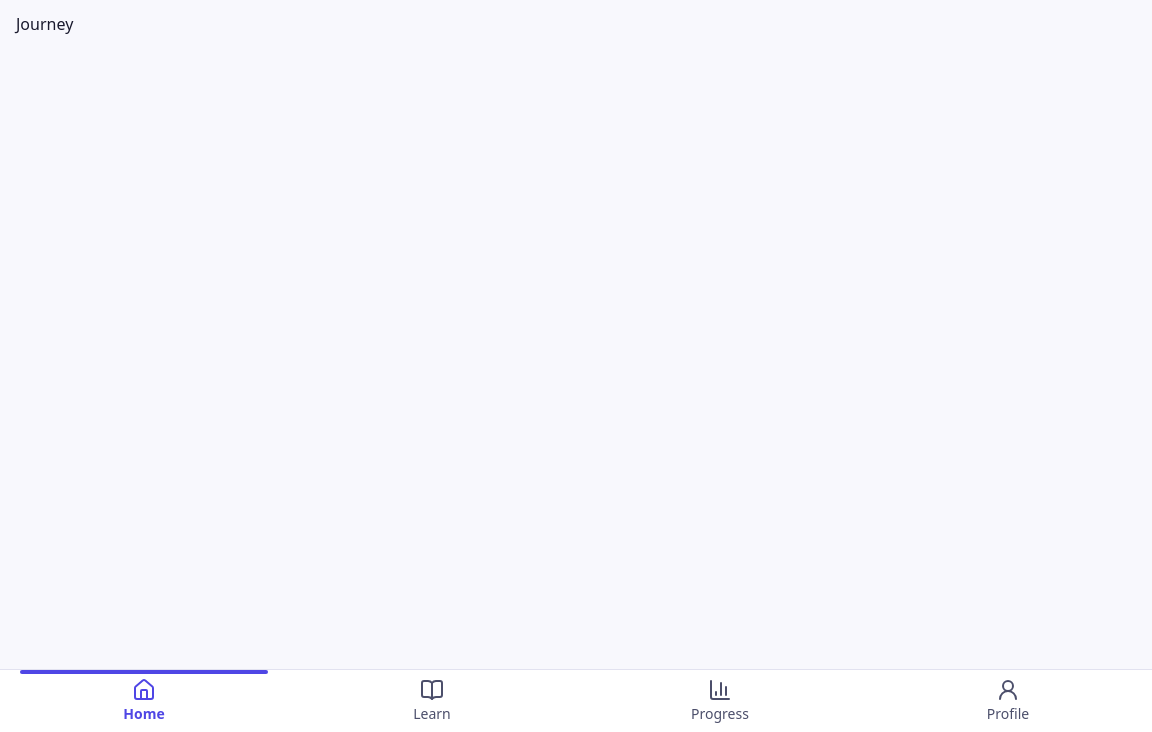
Test: TabsLayout › moves between the screens
Click the link "Progress".
click(720, 700)  # box [691, 678, 749, 723]
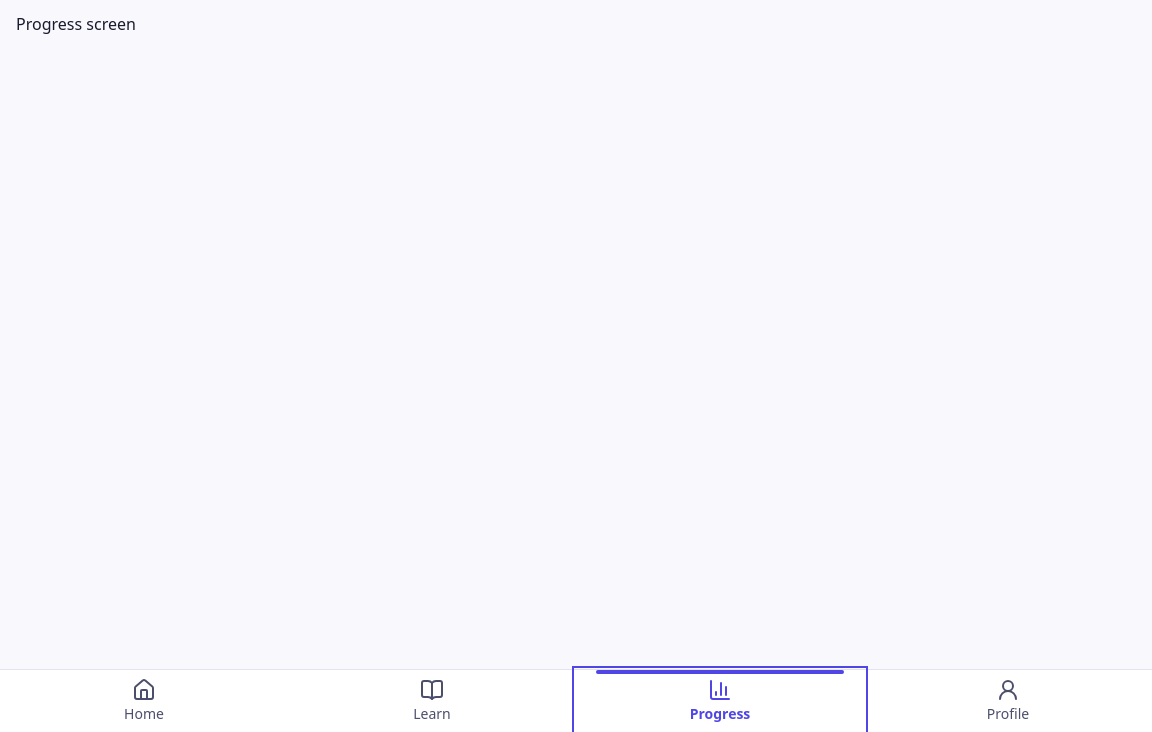
Check: the heading "Progress screen" is shown, box [16, 13, 136, 35]
Click the link "Profile".
click(1008, 700)  # box [987, 678, 1029, 723]
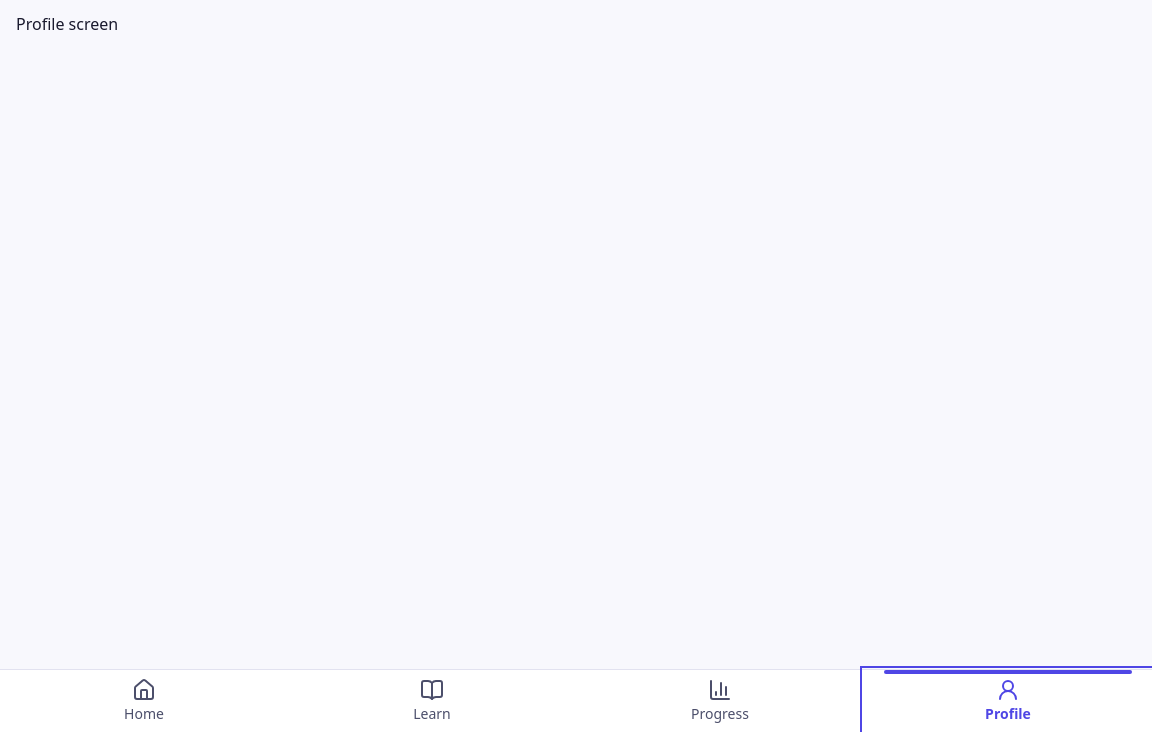
Check: the heading "Profile screen" is shown, box [16, 13, 118, 35]
